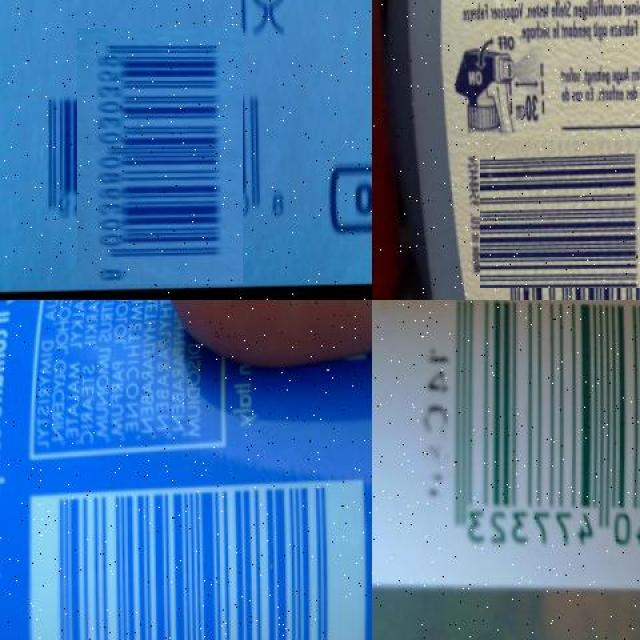Barcode: (28, 476, 371, 640), (439, 300, 640, 568), (54, 50, 265, 262), (486, 133, 640, 294)
